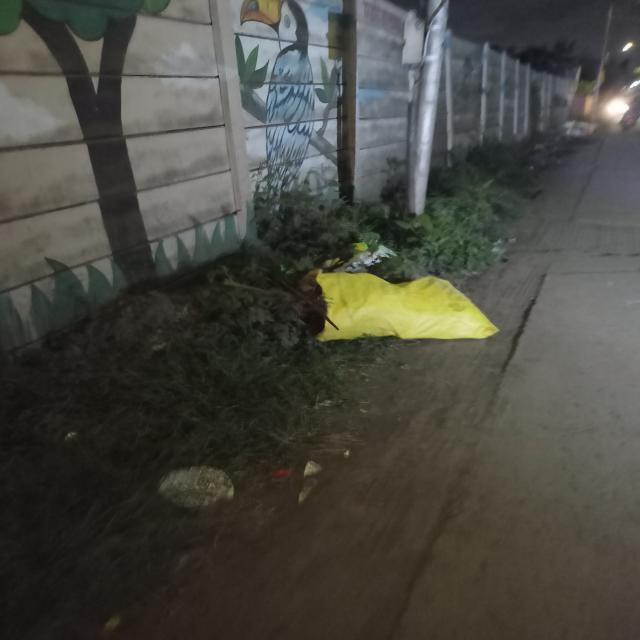garbage: (116, 235, 497, 348)
